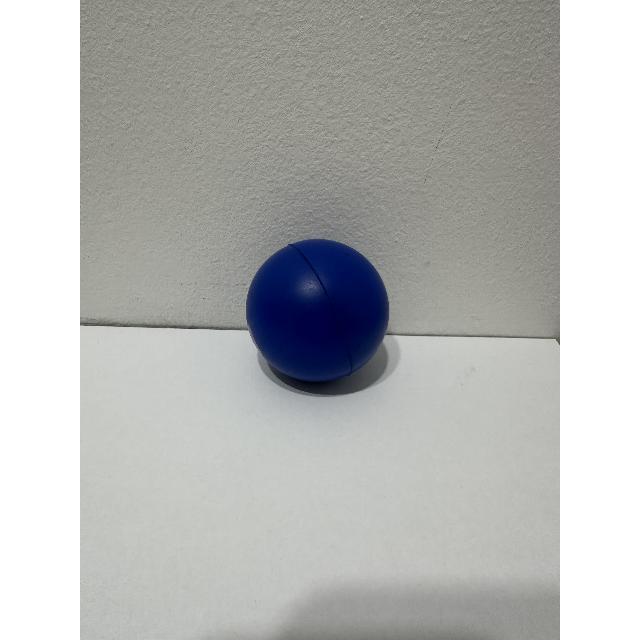blue_ball: (240, 234, 398, 392)
